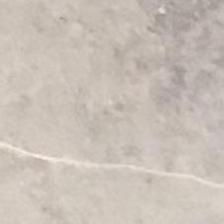Non_Crack: (17, 18, 210, 194)
